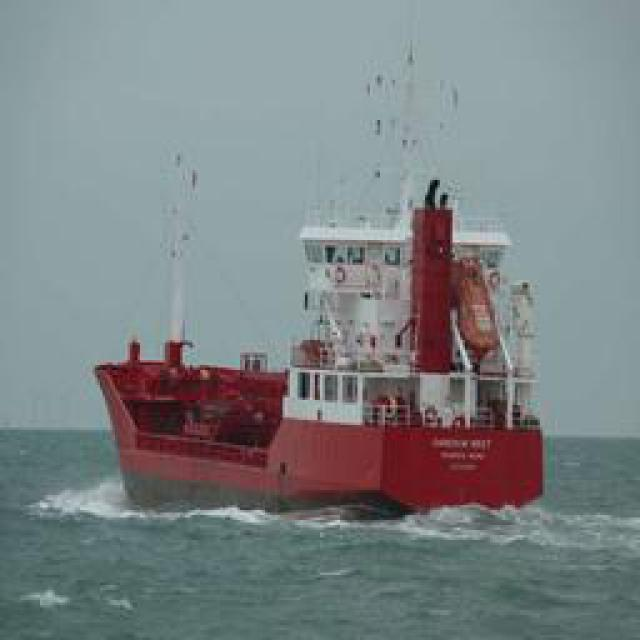Ship: (95, 120, 540, 525)
